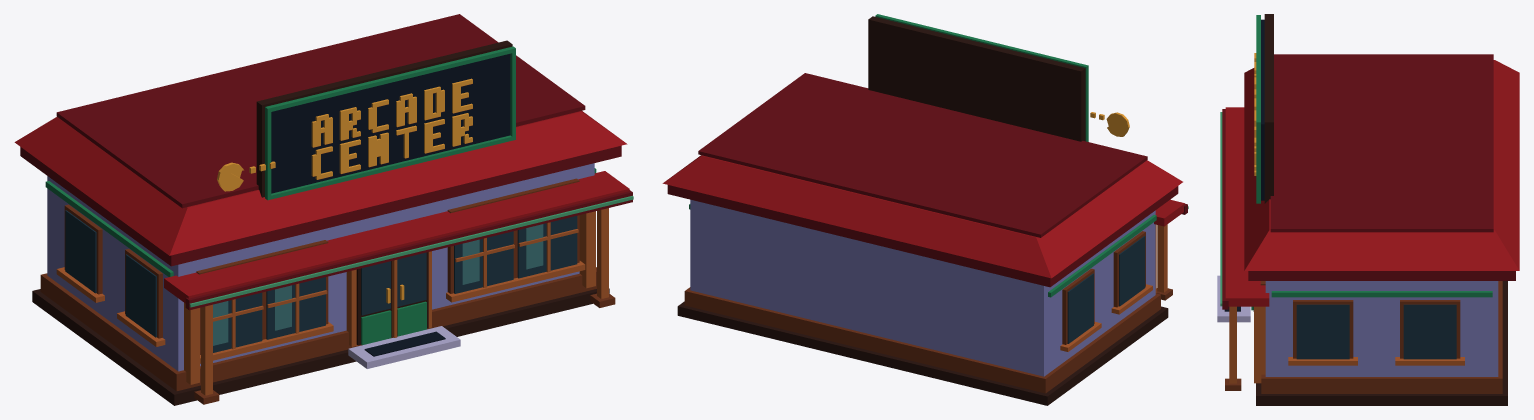
The model's file is arcade-center-dinner.glb.
The picture shows the model from 3 angles, left to right: view 1: azimuth 30°, elevation 25°; view 2: azimuth 150°, elevation 25°; view 3: azimuth 270°, elevation 25°; orthographic projection. The views are drawn at different scales.
Parts seen in each view (by area): view 1: ArcadeCenterDiner; view 2: ArcadeCenterDiner; view 3: ArcadeCenterDiner.
Boxes of the visible parts, bbox=[...] form: ArcadeCenterDiner: bbox=[14, 14, 633, 405]; ArcadeCenterDiner: bbox=[662, 14, 1188, 405]; ArcadeCenterDiner: bbox=[1217, 14, 1519, 405].
Size of the model in its own units: 12.1 by 6.93 by 7.8.
Materials: 1 (1 with a texture image).
